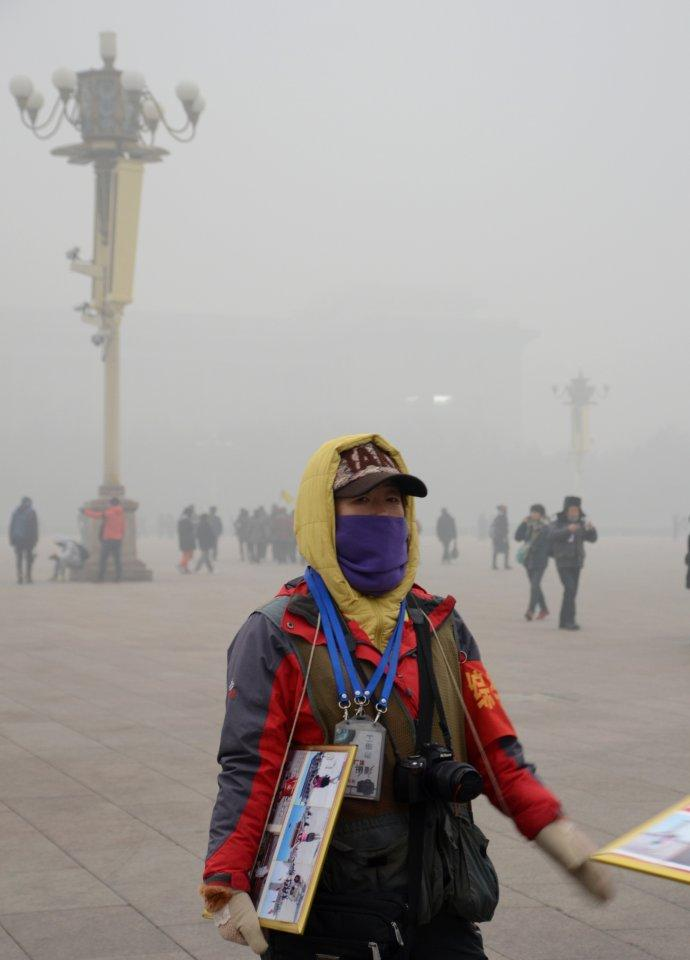person: (194, 429, 627, 960), (549, 493, 600, 637), (513, 501, 554, 622), (78, 495, 126, 585), (8, 493, 39, 583), (46, 534, 90, 583), (489, 502, 513, 571), (174, 504, 197, 573), (192, 512, 215, 573), (434, 504, 456, 565)
